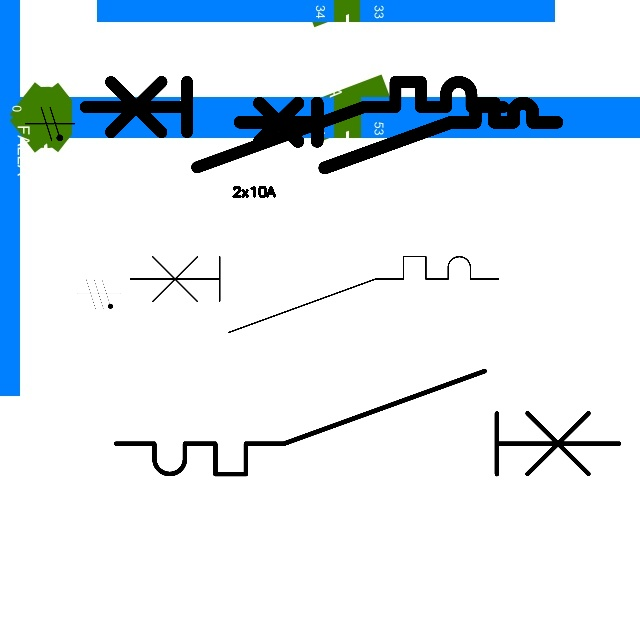interruptor_termomagnetico: (103, 358, 632, 487), (74, 71, 513, 178), (120, 247, 507, 341), (232, 95, 565, 176)
